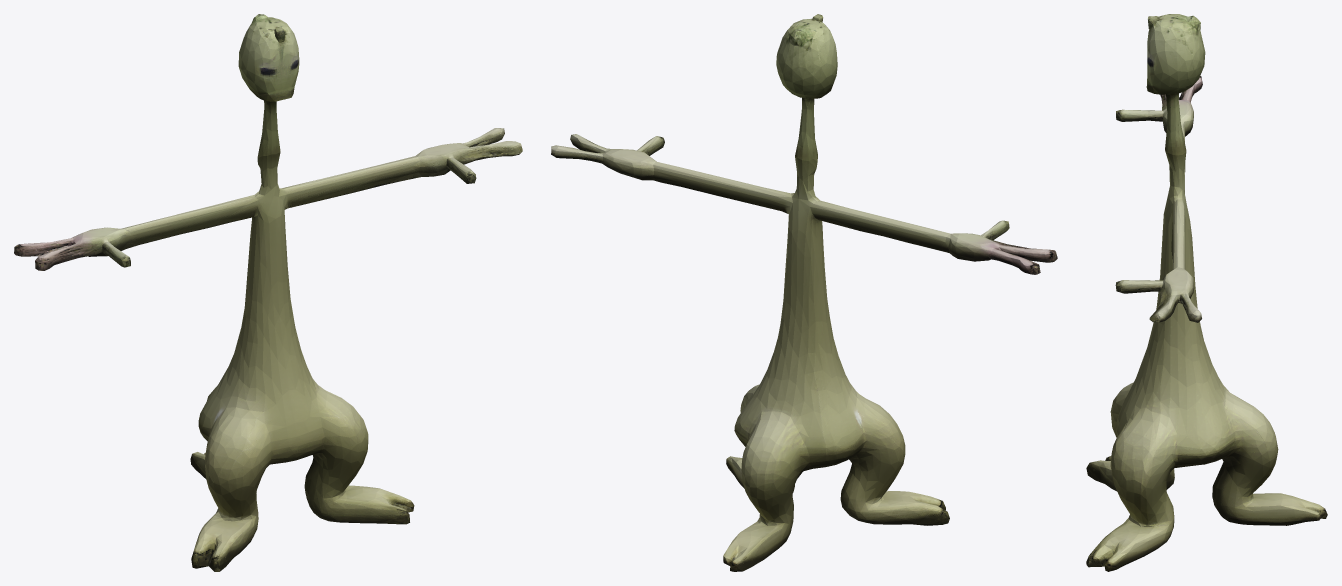
The model's file is after.glb.
3 views of the same model, side by side, from view 1: azimuth 30°, elevation 25°; view 2: azimuth 150°, elevation 25°; view 3: azimuth 270°, elevation 25° (orthographic).
Visible parts, largest first — view 1: world; view 2: world; view 3: world.
Boxes of the visible parts, <box> form: world: <box>14,14,522,571</box>; world: <box>551,14,1057,571</box>; world: <box>1086,14,1327,571</box>.
Bounding box in the file's own units: 0.9315 × 0.9055 × 0.3926.
1 material, 1 textured.
